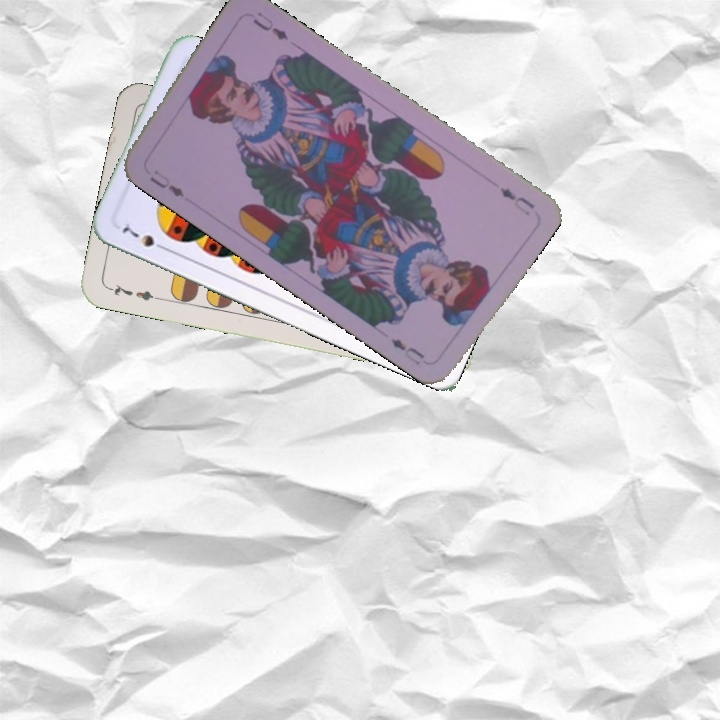E7: (104, 280, 163, 304)
EU: (495, 183, 537, 219), (145, 166, 187, 200)
S7: (117, 218, 171, 254)
